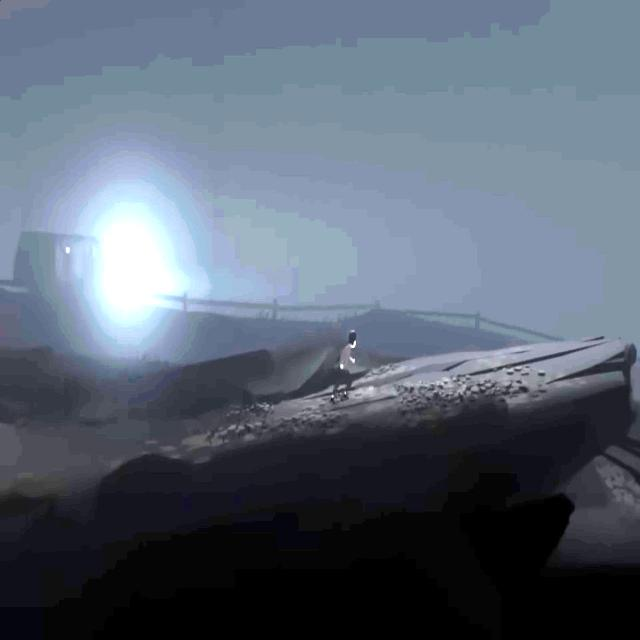boy: (335, 330, 358, 401)
